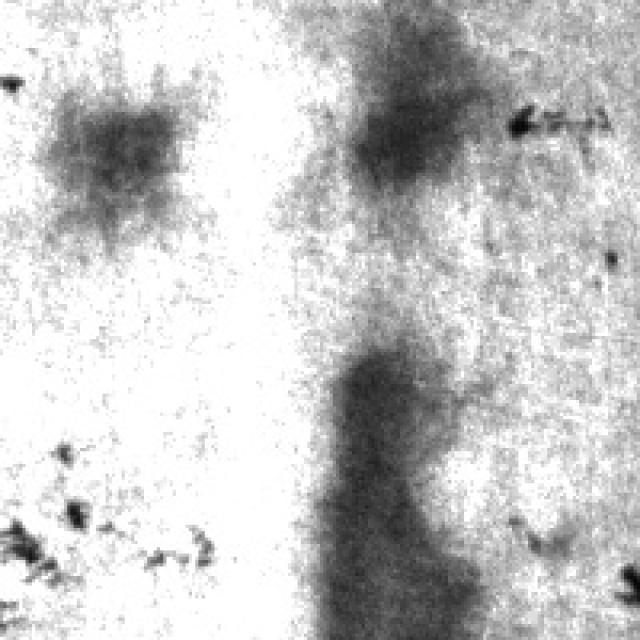patches: (323, 346, 480, 634), (346, 3, 502, 189), (58, 90, 192, 230)
